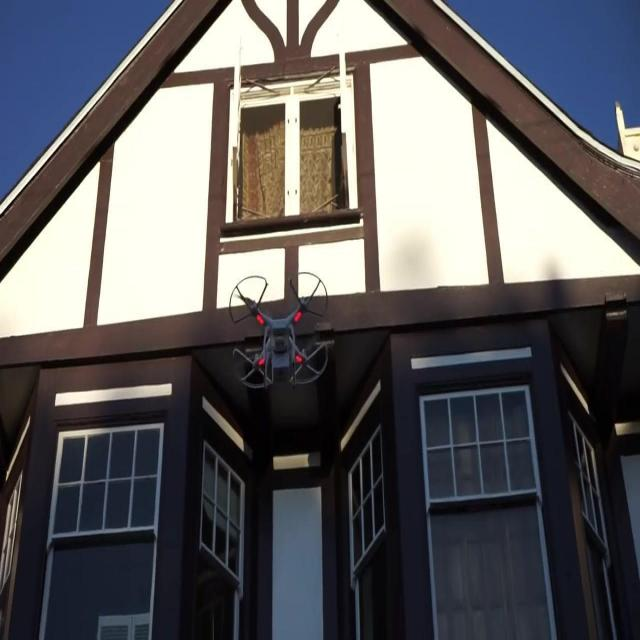UAV: (229, 271, 329, 390)
